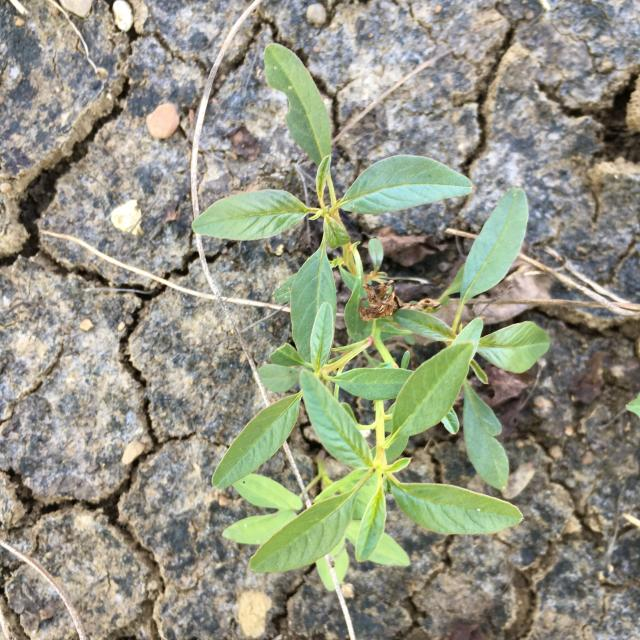Waterhemp: (192, 42, 550, 591)
